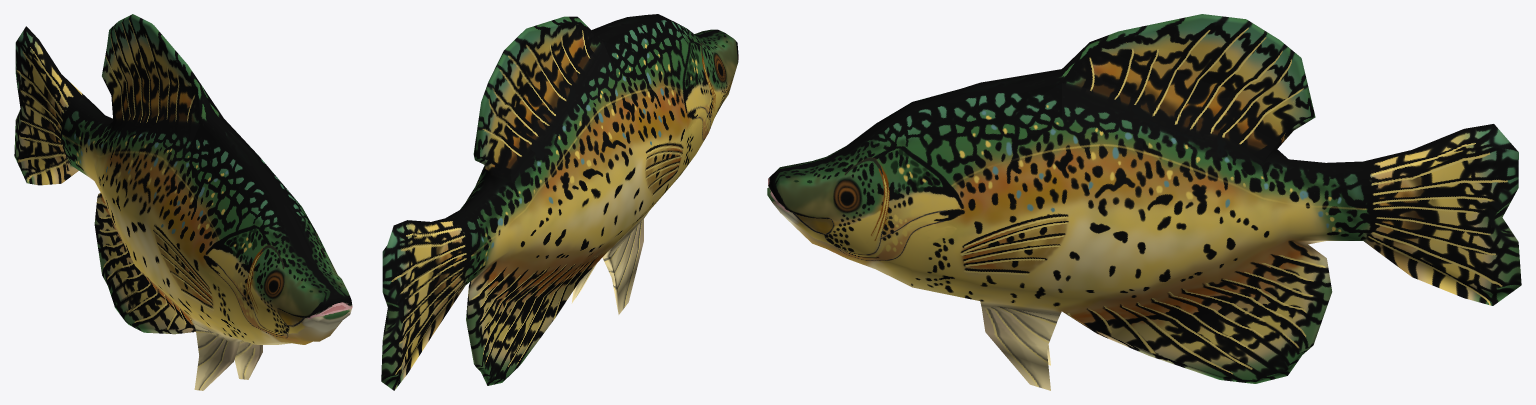
Rendered from black_crappie.glb.
The picture shows the model from 3 angles, left to right: view 1: azimuth 30°, elevation 25°; view 2: azimuth 150°, elevation 25°; view 3: azimuth 270°, elevation 25°; orthographic projection. The views are drawn at different scales.
Visible parts, largest first — view 1: Fish; view 2: Fish; view 3: Fish.
Part boxes in pixels (bbox=[...]): Fish: bbox=[14, 14, 352, 390]; Fish: bbox=[381, 14, 738, 390]; Fish: bbox=[767, 14, 1521, 390].
Size of the model in its own units: 1.88 by 5.03 by 9.29.
Materials: 1 (1 with a texture image).
